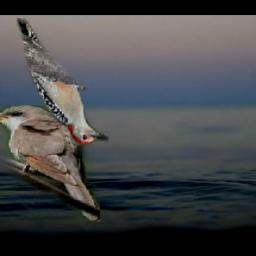Cuckoo: (0, 105, 101, 222)
Woodpecker: (18, 18, 110, 145)
